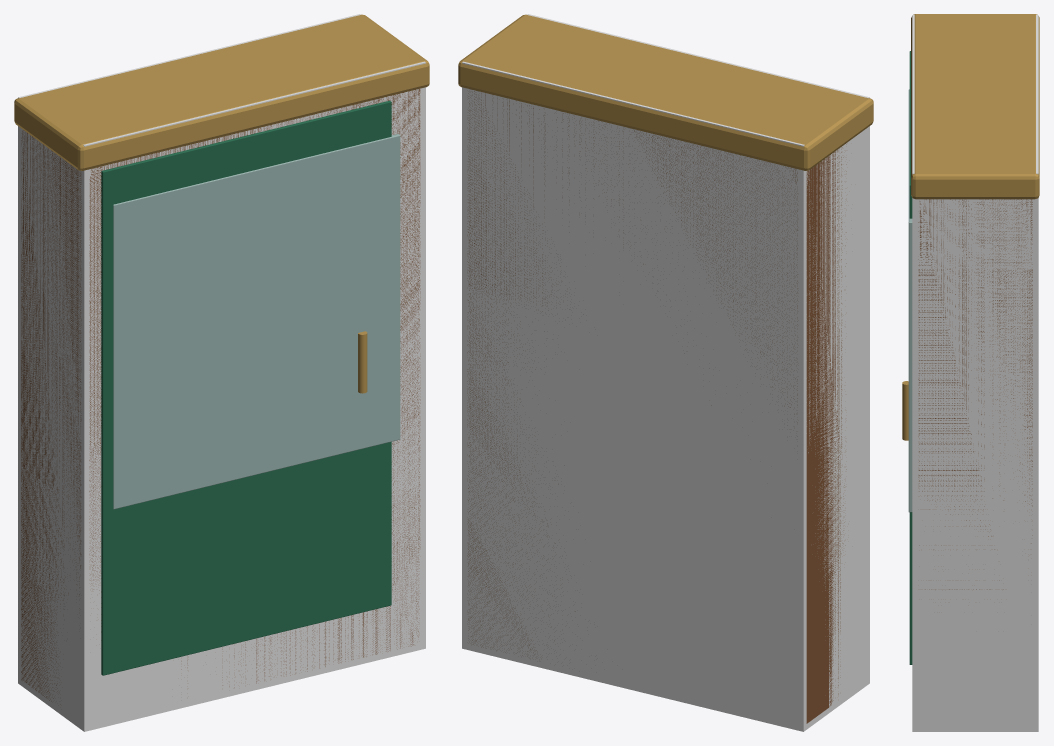
Rendered from trophy-case_boutique.glb.
3 views of the same model, side by side, from view 1: azimuth 30°, elevation 25°; view 2: azimuth 150°, elevation 25°; view 3: azimuth 270°, elevation 25° (orthographic). The views are drawn at different scales.
Parts seen in each view (by area): view 1: MESH_DisplayGlass, COL_trophy-case, MESH_Door_01, MESH_Crown, MESH_CabinetCarcass; view 2: COL_trophy-case, MESH_Crown, MESH_CabinetCarcass; view 3: COL_trophy-case, MESH_Crown, MESH_CabinetCarcass, MESH_DisplayGlass, MESH_Door_01, MESH_Handle.
Boxes of the visible parts, x1,y1,x2,y2 form: MESH_DisplayGlass: [113, 134, 400, 509]; COL_trophy-case: [18, 14, 425, 731]; MESH_Door_01: [101, 100, 391, 675]; MESH_Crown: [14, 14, 429, 170]; MESH_CabinetCarcass: [21, 89, 420, 704]; COL_trophy-case: [462, 14, 869, 731]; MESH_Crown: [458, 14, 873, 170]; MESH_CabinetCarcass: [467, 91, 846, 723]; COL_trophy-case: [912, 15, 1038, 731]; MESH_Crown: [911, 14, 1039, 199]; MESH_CabinetCarcass: [918, 199, 1032, 589]; MESH_DisplayGlass: [908, 89, 912, 512]; MESH_Door_01: [909, 51, 912, 664]; MESH_Handle: [902, 381, 908, 440].
Size of the model in its own units: 1.29 by 2.05 by 0.4581.
